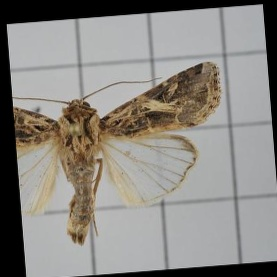Spodoptera litura: (16, 68, 226, 244)
